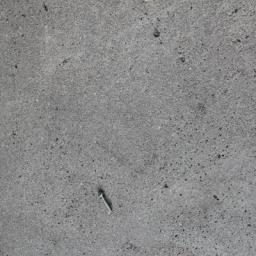FOD: (95, 189, 117, 217)
